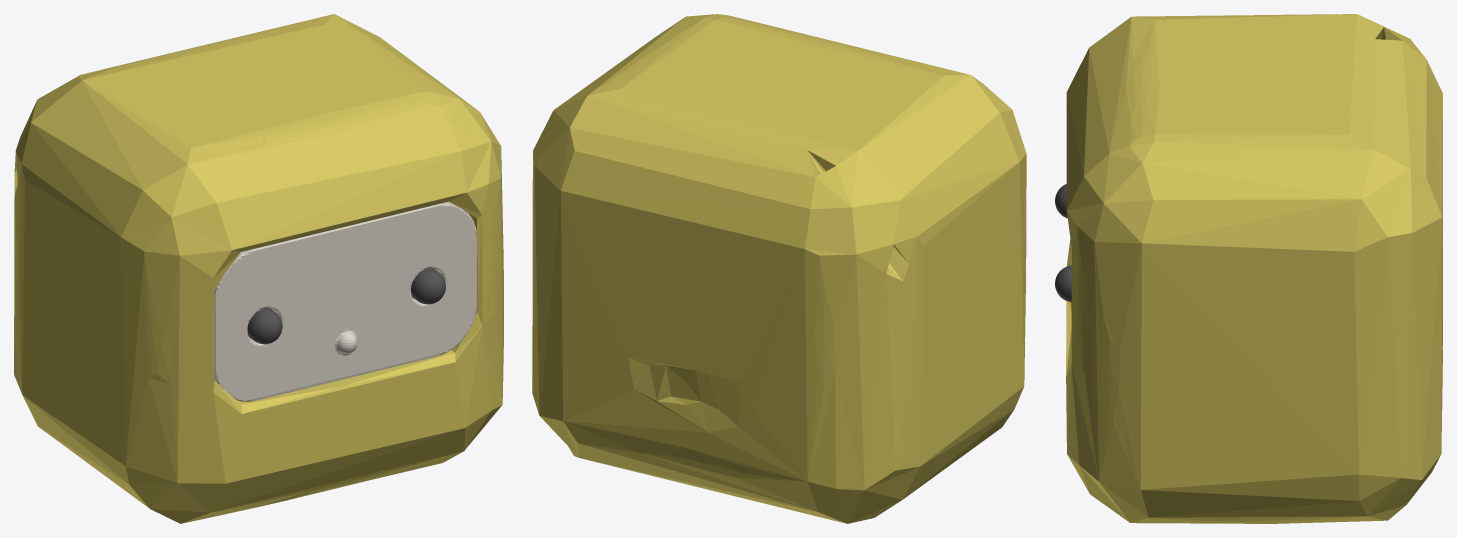
The model's file is bloki_facetado.glb.
3 renders of one model, left to right at view 1: azimuth 30°, elevation 25°; view 2: azimuth 150°, elevation 25°; view 3: azimuth 270°, elevation 25°, orthographic. The views are drawn at different scales.
Visible parts, largest first — view 1: world; view 2: world; view 3: world.
Part boxes in pixels (x1=…): world: x1=14, y1=14, x2=503, y2=523; world: x1=532, y1=14, x2=1026, y2=523; world: x1=1055, y1=14, x2=1442, y2=523.
Bounding box in the file's own units: 36.96 × 33.53 × 31.71.
